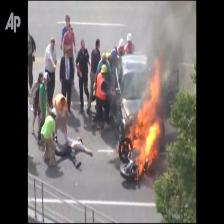fire: (123, 53, 194, 188)
smoke: (144, 4, 199, 43)
